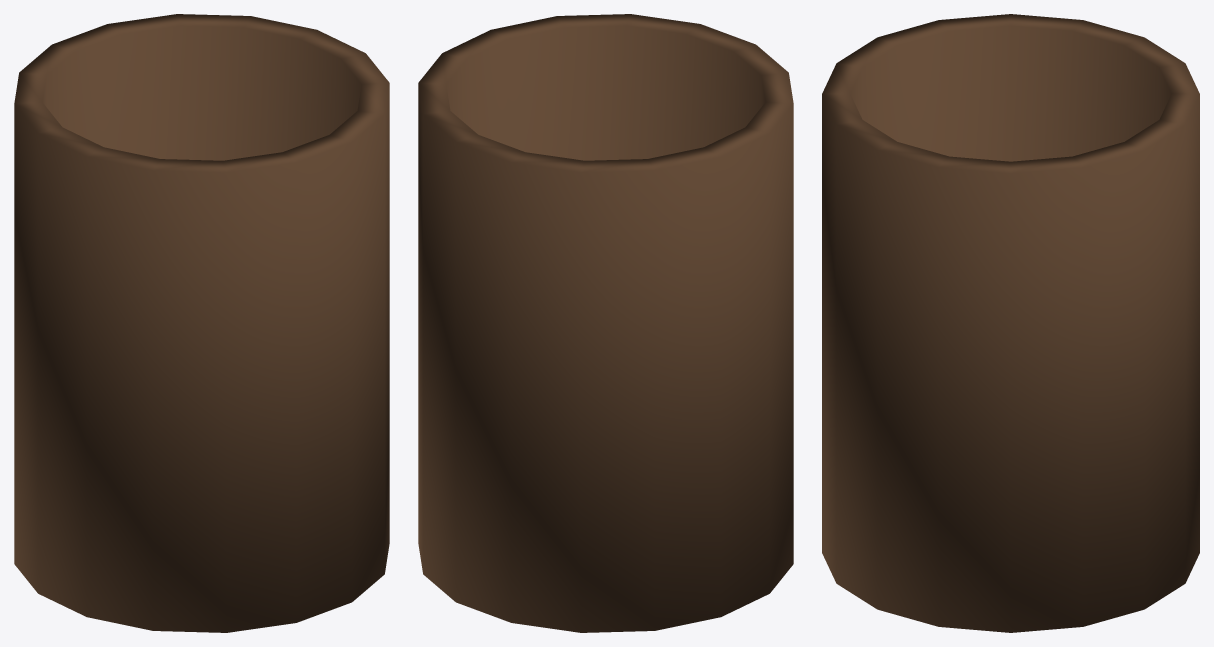
File: PotCrayon.fbx
3 renders of one model, left to right at view 1: azimuth 30°, elevation 25°; view 2: azimuth 150°, elevation 25°; view 3: azimuth 270°, elevation 25°, orthographic.
Parts seen in each view (by area): view 1: PotCrayon; view 2: PotCrayon; view 3: PotCrayon.
Part boxes in pixels (bbox=[...]): PotCrayon: bbox=[14, 14, 389, 632]; PotCrayon: bbox=[418, 14, 793, 632]; PotCrayon: bbox=[822, 14, 1199, 632].
Size of the model in its own units: 7.08 by 9.51 by 7.08.
